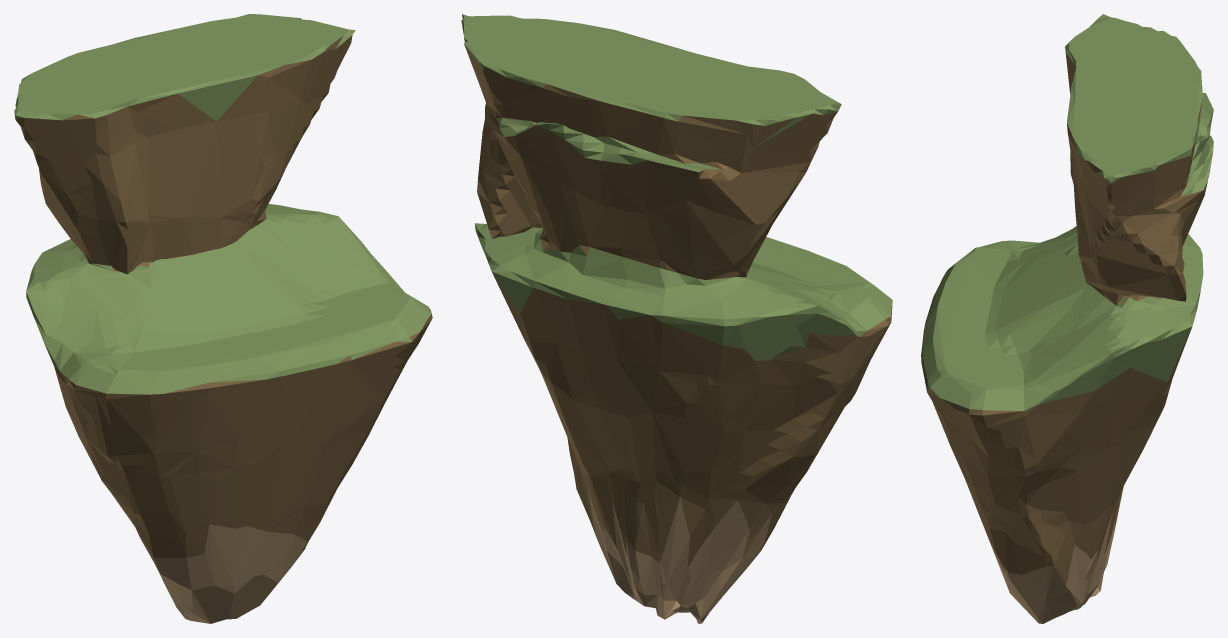
File: floating island 1.fbx
3 renders of one model, left to right at view 1: azimuth 30°, elevation 25°; view 2: azimuth 150°, elevation 25°; view 3: azimuth 270°, elevation 25°, orthographic. The views are drawn at different scales.
Parts seen in each view (by area): view 1: polySurface1; view 2: polySurface1; view 3: polySurface1.
Boxes of the visible parts, x1,y1,x2,y2 form: polySurface1: (14, 14, 432, 623); polySurface1: (461, 14, 892, 623); polySurface1: (921, 14, 1213, 623).
Bounding box in the file's own units: 26.25 × 37.23 × 19.14.
